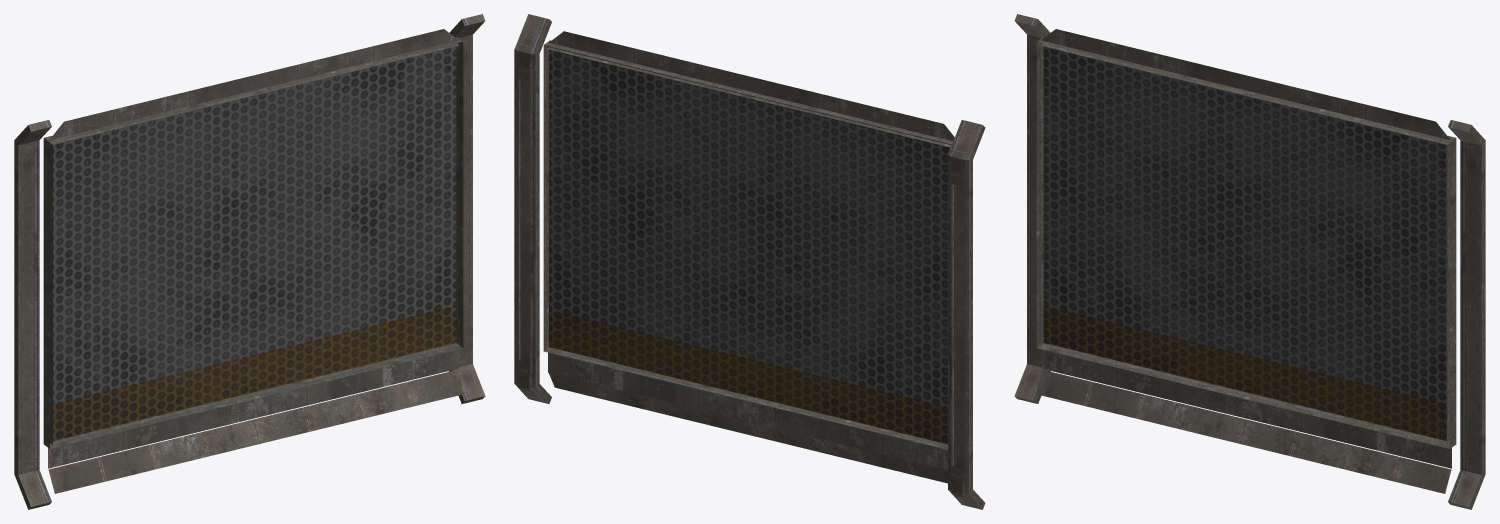
File: ARC0910261.fbx
3 renders of one model, left to right at view 1: azimuth 30°, elevation 25°; view 2: azimuth 150°, elevation 25°; view 3: azimuth 330°, elevation 25°, orthographic.
Visible parts, largest first — view 1: smARC0910261; view 2: smARC0910261; view 3: smARC0910261.
Boxes of the visible parts, x1,y1,x2,y2 form: smARC0910261: [14, 14, 485, 509]; smARC0910261: [514, 14, 985, 509]; smARC0910261: [1014, 14, 1485, 509].
Size of the model in its own units: 363 by 294 by 27.21.
1 material, 1 textured.
